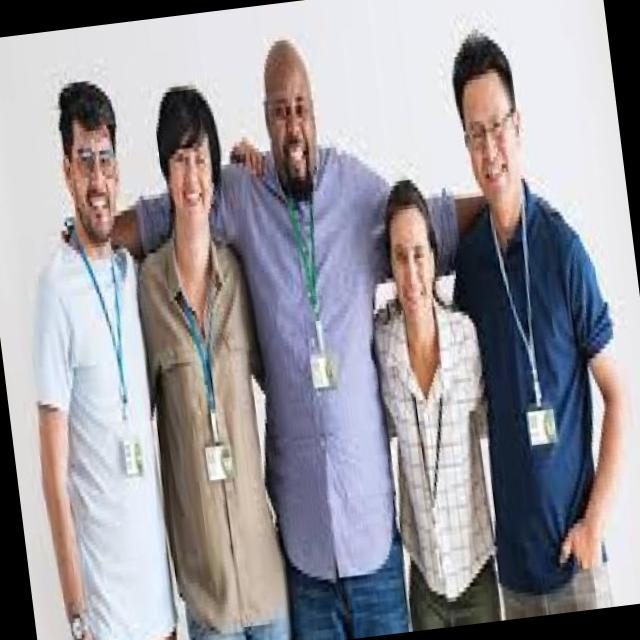id_card: (486, 186, 562, 454), (76, 249, 150, 480), (169, 276, 246, 487), (279, 180, 339, 393)
